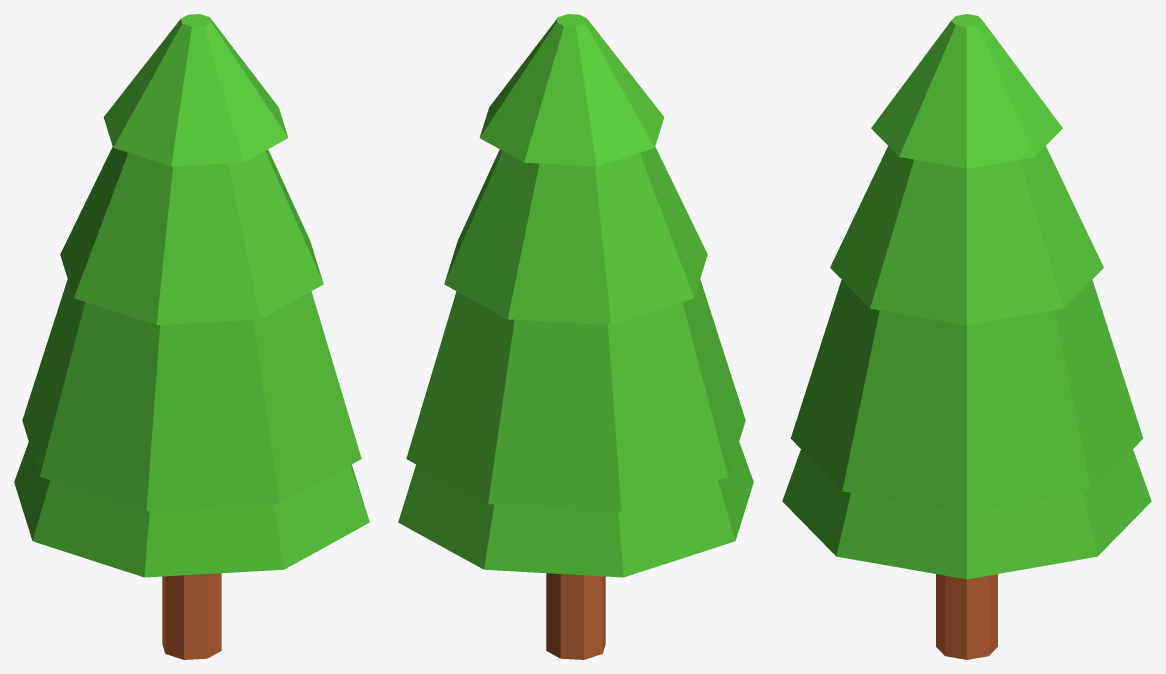
The model's file is tree.dae.
The picture shows the model from 3 angles, left to right: view 1: azimuth 30°, elevation 25°; view 2: azimuth 150°, elevation 25°; view 3: azimuth 270°, elevation 25°; orthographic projection.
Visible parts, largest first — view 1: Cylinder; view 2: Cylinder; view 3: Cylinder.
Boxes of the visible parts, box(x1,y1,x2,y2) form: Cylinder: box(14, 14, 369, 659); Cylinder: box(398, 14, 753, 659); Cylinder: box(782, 14, 1151, 659).
Size of the model in its own units: 1.08 by 1.08 by 2.02.
